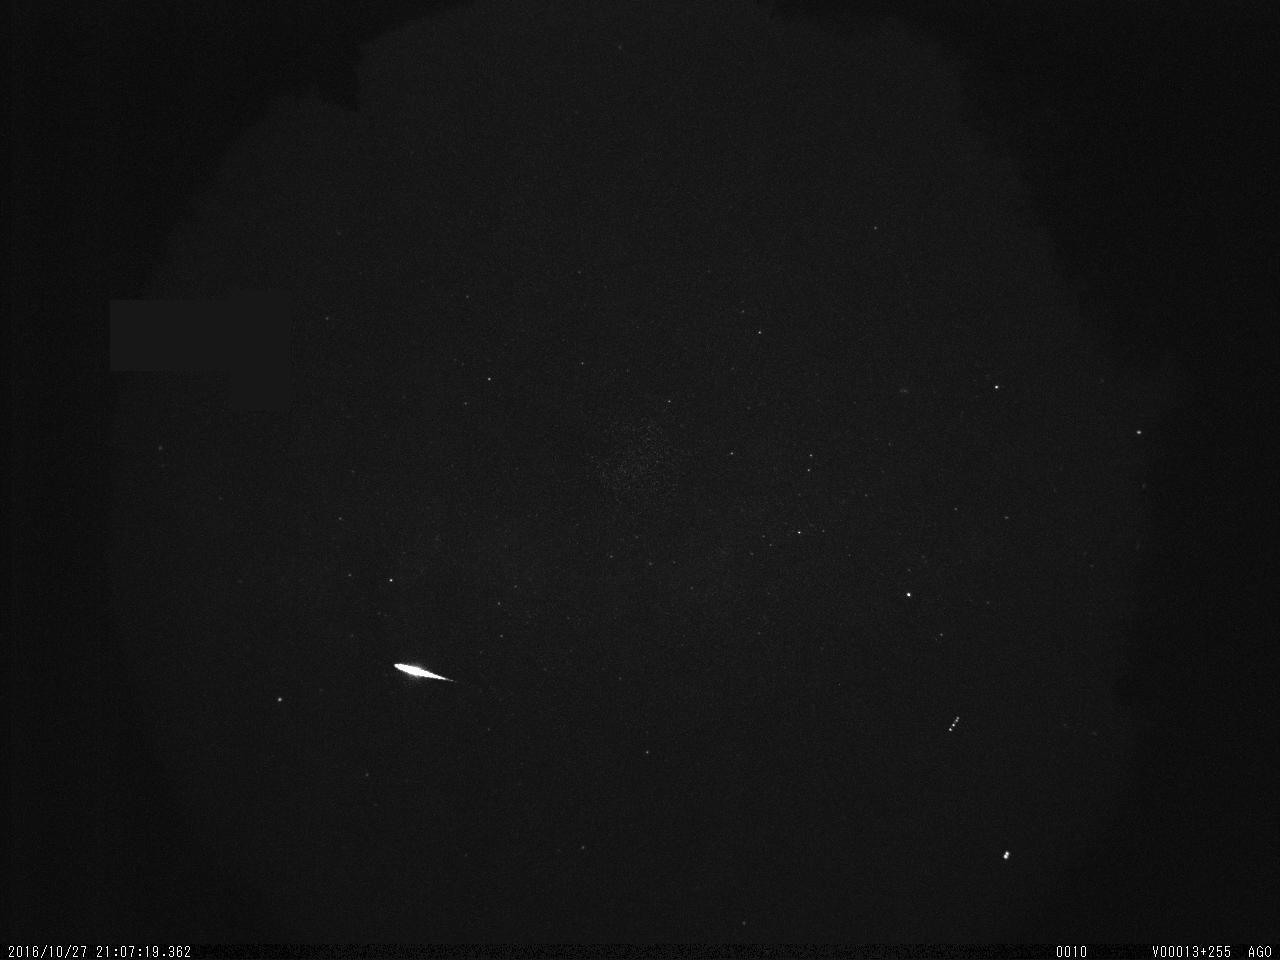meteor: (383, 653, 466, 693)
satelite: (940, 707, 968, 743)
